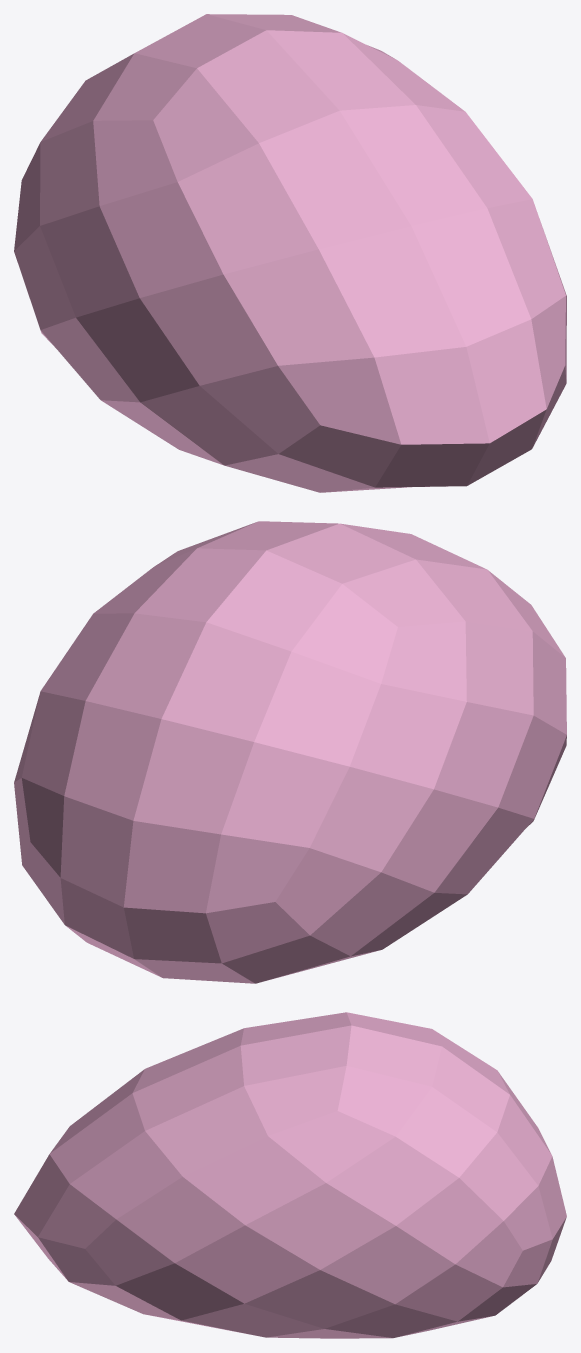
File: stone.fbx
3 renders of one model, top to bottom at view 1: azimuth 30°, elevation 25°; view 2: azimuth 150°, elevation 25°; view 3: azimuth 270°, elevation 25°, orthographic. The views are drawn at different scales.
Visible parts, largest first — view 1: Cube; view 2: Cube; view 3: Cube.
Boxes of the visible parts, box(x1,y1,x2,y2) form: Cube: box(14, 14, 566, 492); Cube: box(14, 521, 566, 983); Cube: box(14, 1012, 566, 1338).
Size of the model in its own units: 109 by 94.29 by 164.
